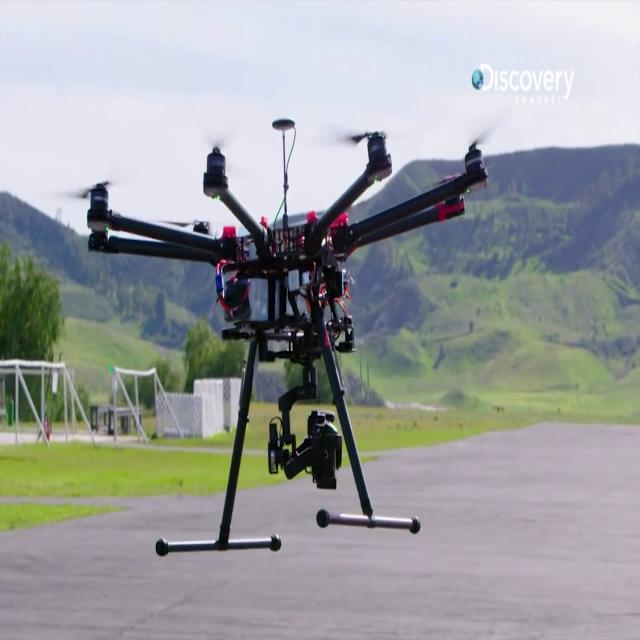drone: (67, 126, 497, 577)
